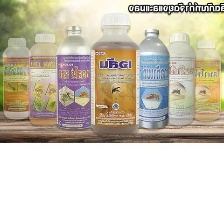insecticide: (87, 9, 144, 139), (54, 21, 93, 132), (132, 25, 171, 132), (158, 29, 197, 127), (26, 30, 64, 127), (0, 34, 34, 121), (188, 38, 222, 123)
